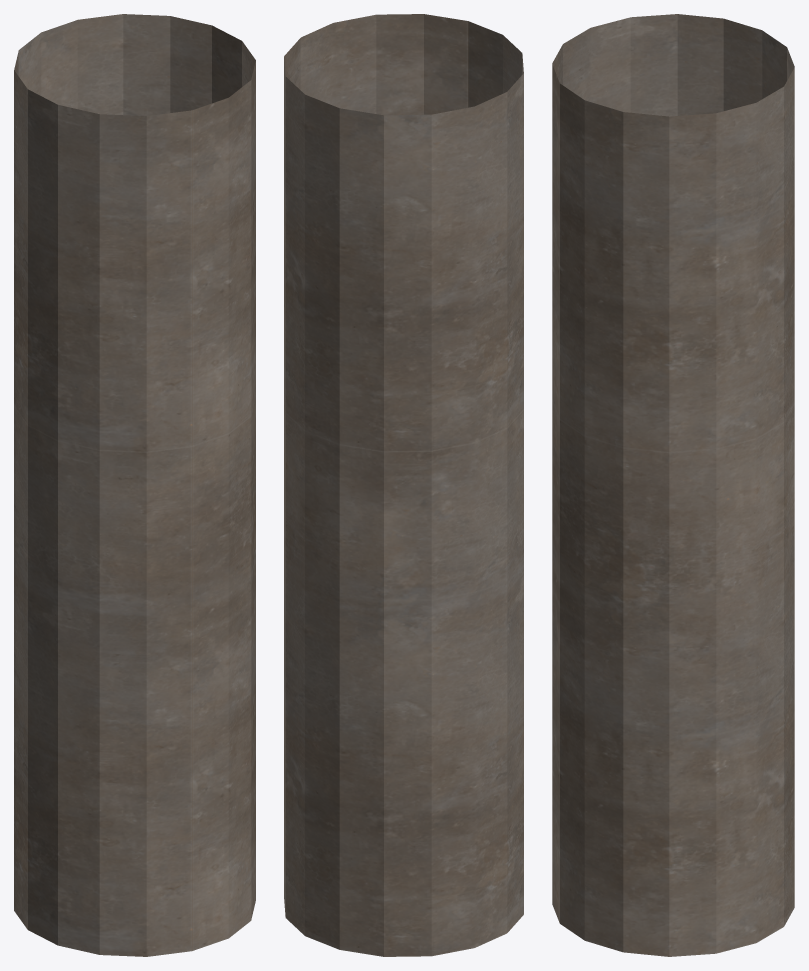
File: StoneTowerMiddleColumn.fbx
3 renders of one model, left to right at view 1: azimuth 30°, elevation 25°; view 2: azimuth 150°, elevation 25°; view 3: azimuth 270°, elevation 25°, orthographic.
Parts seen in each view (by area): view 1: CastleTower.017; view 2: CastleTower.017; view 3: CastleTower.017.
Boxes of the visible parts, left/top/right/bottom form: CastleTower.017: left=14, top=14, right=255, bottom=956; CastleTower.017: left=284, top=14, right=523, bottom=956; CastleTower.017: left=552, top=14, right=794, bottom=956.
Size of the model in its own units: 1.3 by 4.97 by 1.3.
